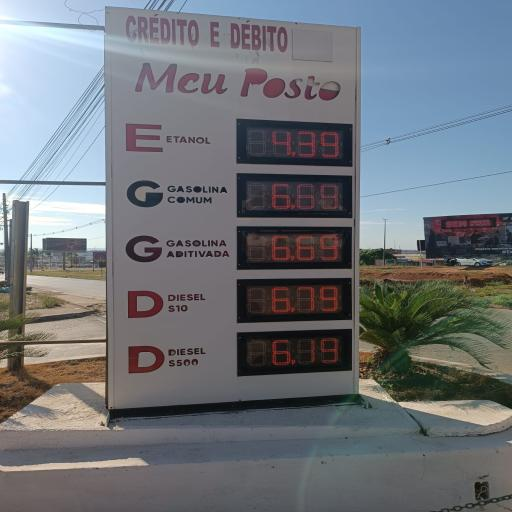ETANOL: (119, 112, 224, 162)
GASOLINA AD: (121, 231, 233, 266)
GASOLINA C: (122, 172, 232, 216)
S10: (118, 286, 222, 322)
S500: (121, 336, 219, 380)
placa: (108, 104, 361, 389)
preco: (264, 174, 344, 213), (262, 125, 344, 161), (265, 336, 342, 370), (269, 230, 344, 264), (269, 283, 343, 316)
